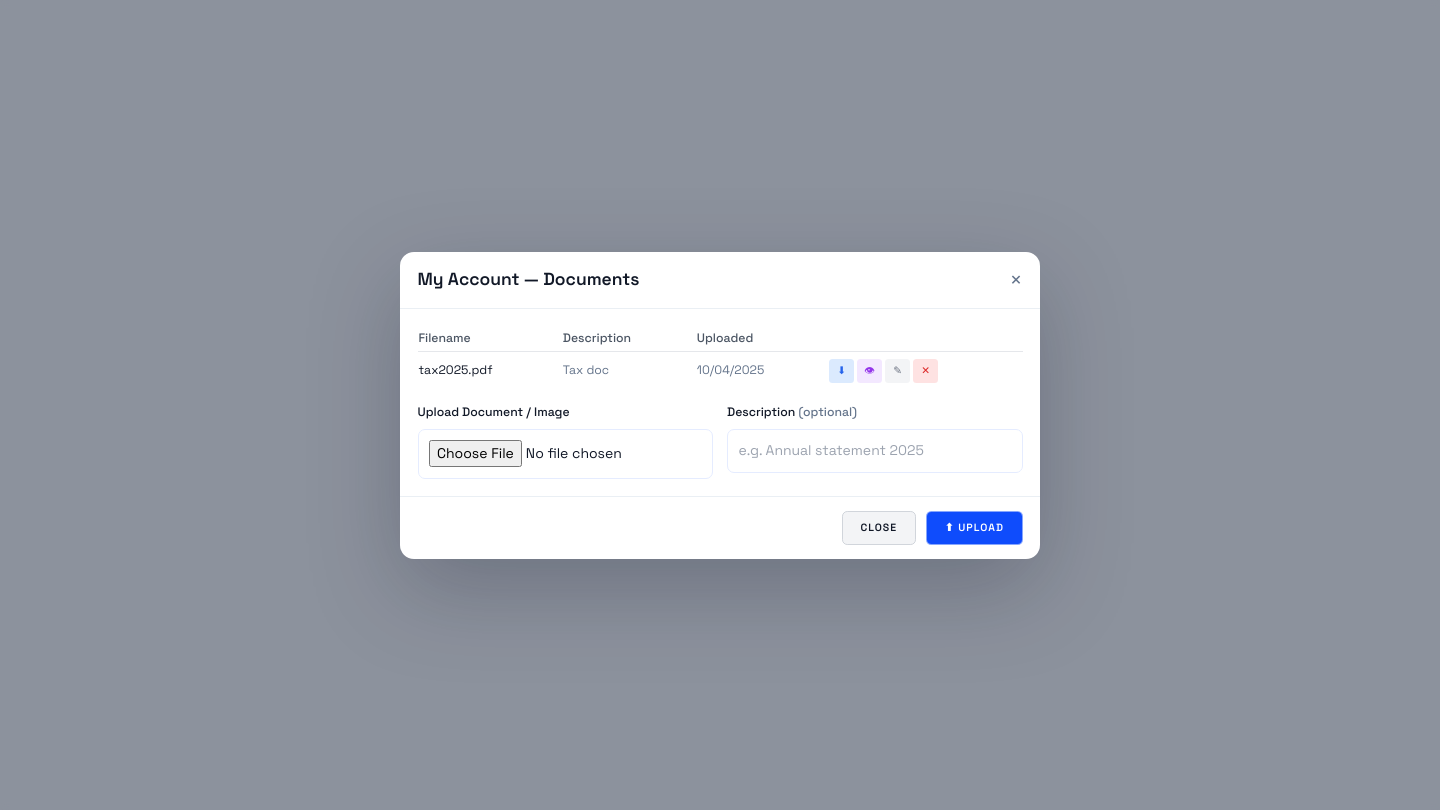
AccountDocumentsModal › startEdit / saveDescription › shows error when save fails
This screenshot has width=1440, height=810.
Click the button titled "Edit description" at (898,371), box [885,358,910,383]
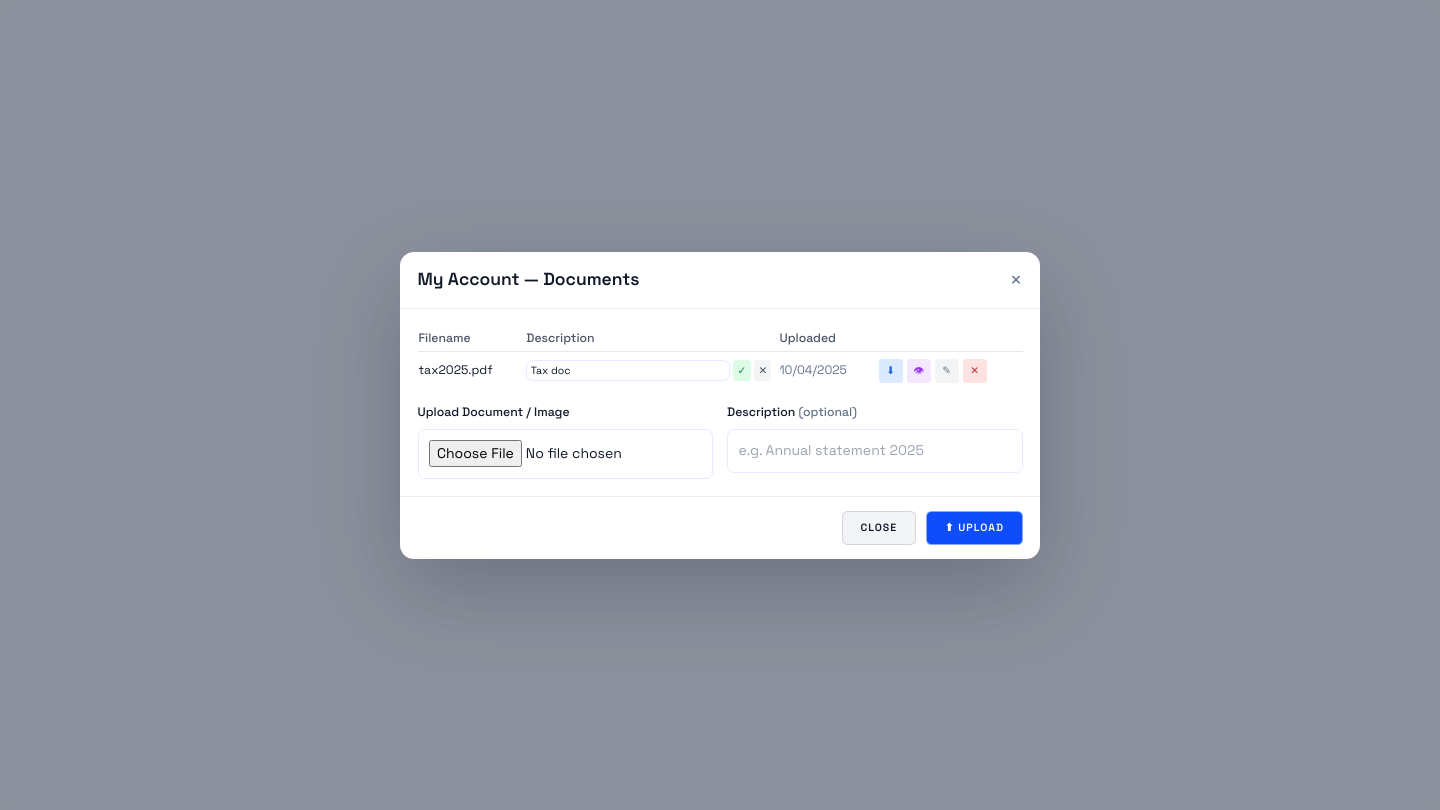
Click the button titled "Save" at (742,371), box [733,360,751,381]
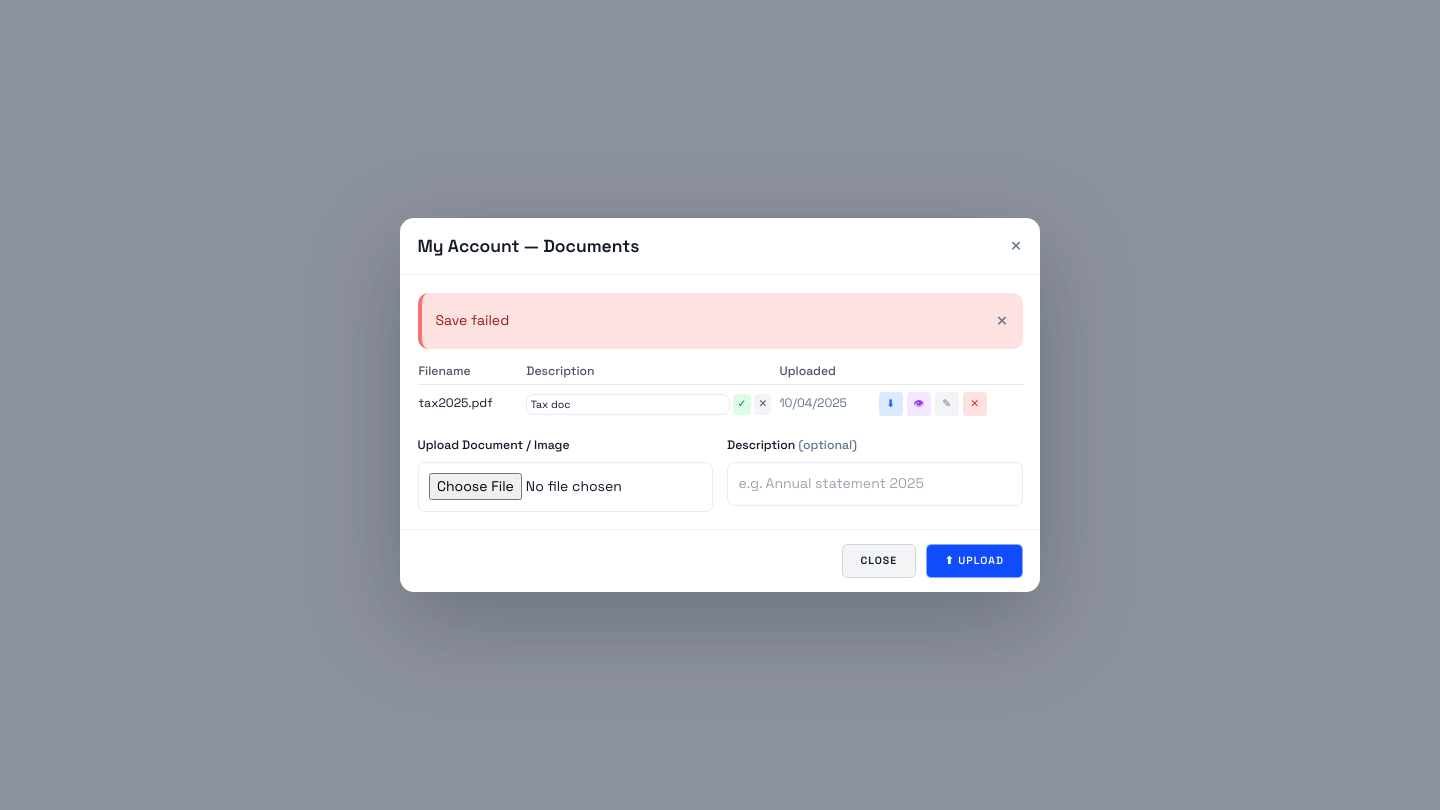
Expected: the text "Save failed" is shown, [436,310,509,331]
